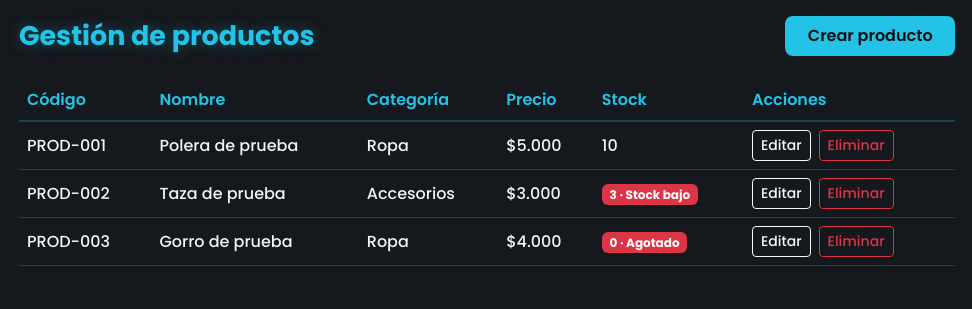
Test: PanelProductos › elimina el producto confirmado y actualiza el catálogo
The width and height of the screenshot is (972, 309).
Click the button "Eliminar" in the row of "PROD-001" at x=856, y=146, box [819, 130, 894, 161]
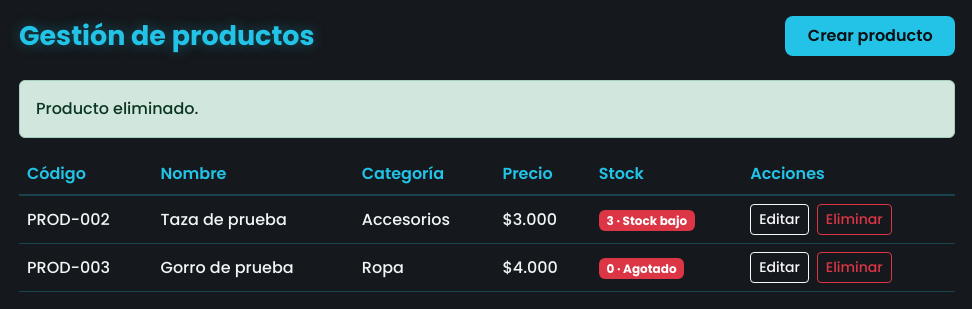
Now the message reads "Producto eliminado.", box [36, 97, 198, 120]
Now the text "Polera de prueba" is gone
